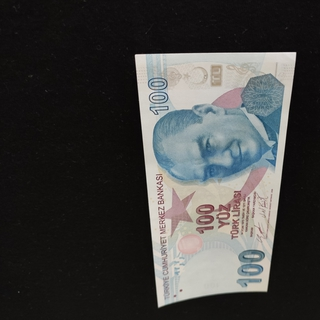100TLFront: (132, 51, 296, 309)
